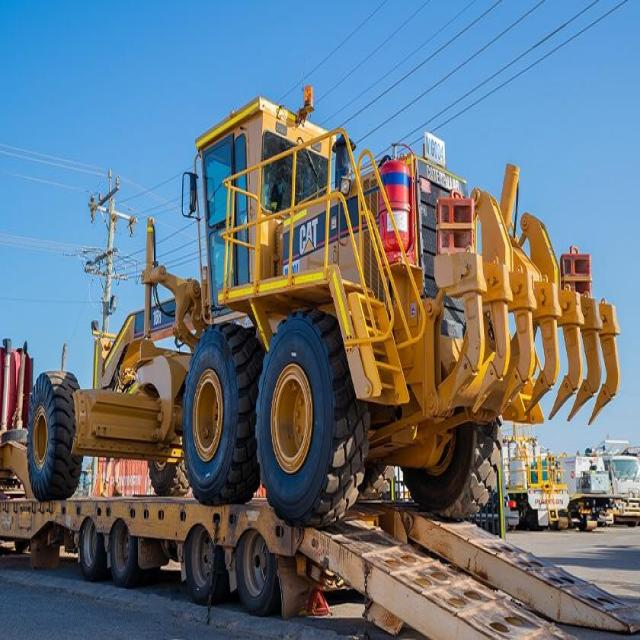buldozerpayloadergrader: (11, 81, 614, 517)
